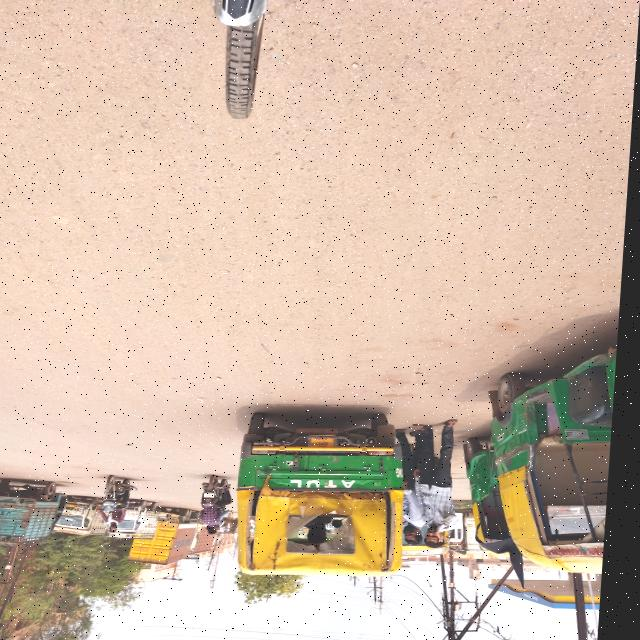plate: (312, 432, 346, 453)
